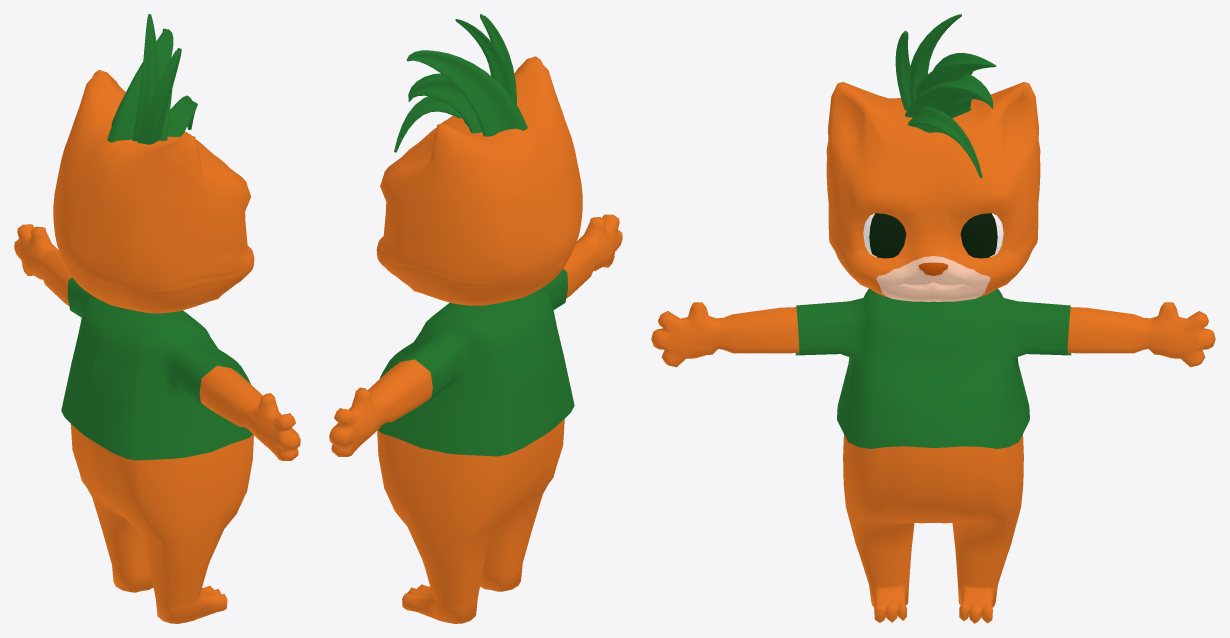
Rendered from michi_v02.glb.
The picture shows the model from 3 angles, left to right: view 1: azimuth 30°, elevation 25°; view 2: azimuth 150°, elevation 25°; view 3: azimuth 270°, elevation 25°; orthographic projection. The views are drawn at different scales.
Parts seen in each view (by area): view 1: Cube004, Cube004_5; view 2: Cube004, Cube004_5; view 3: Cube004, Cube004_5, Cube004_2, Cube004_3.
Boxes of the visible parts, x1=… form: Cube004: x1=14, y1=70, x2=300, y2=623; Cube004_5: x1=61, y1=14, x2=252, y2=460; Cube004: x1=329, y1=56, x2=622, y2=623; Cube004_5: x1=378, y1=14, x2=574, y2=456; Cube004: x1=651, y1=82, x2=1215, y2=623; Cube004_5: x1=795, y1=14, x2=1071, y2=448; Cube004_2: x1=876, y1=256, x2=990, y2=301; Cube004_3: x1=869, y1=213, x2=997, y2=258.
Size of the model in its own units: 1.5 by 4.7 by 4.06.
